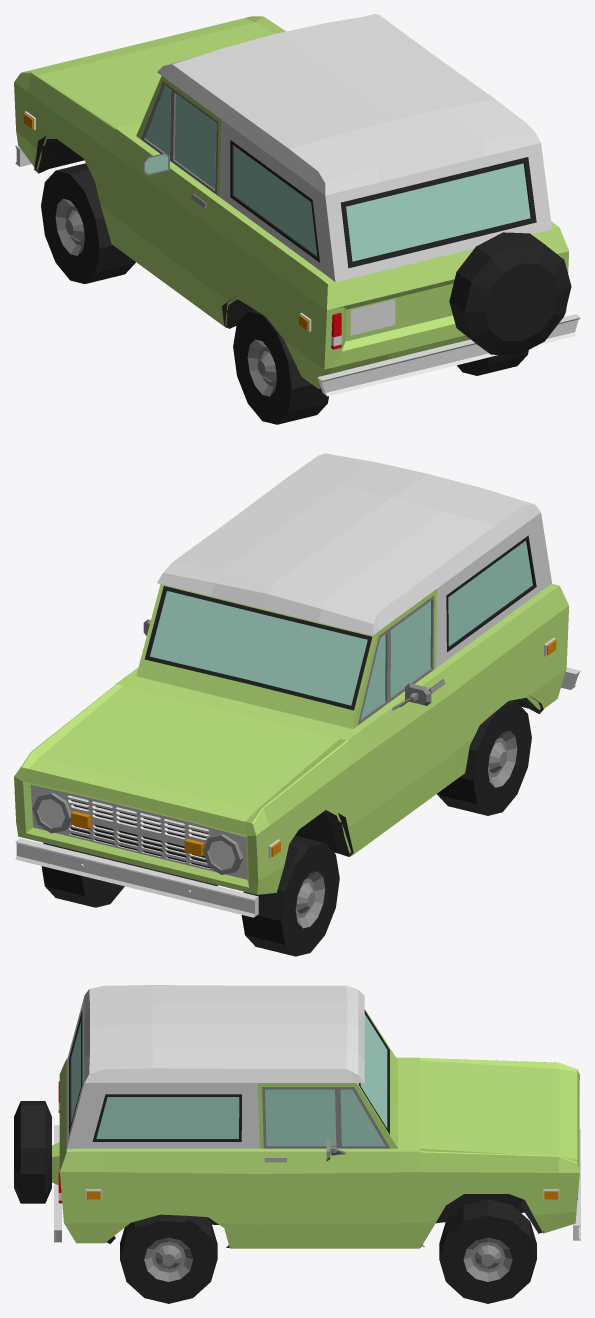
Rendered from bronco.glb.
3 renders of one model, top to bottom at view 1: azimuth 30°, elevation 25°; view 2: azimuth 150°, elevation 25°; view 3: azimuth 270°, elevation 25°, orthographic. The views are drawn at different scales.
Parts seen in each view (by area): view 1: Car_Body, wheels_rear, wheel_FR; view 2: Car_Body, wheel_FR, wheels_rear, wheel_FL; view 3: Car_Body, wheel_FL, wheels_rear.
Boxes of the visible parts, x1=… form: Car_Body: x1=14, y1=14, x2=580, y2=396; wheels_rear: x1=233, y1=309, x2=528, y2=424; wheel_FR: x1=41, y1=163, x2=135, y2=283; Car_Body: x1=14, y1=453, x2=580, y2=917; wheel_FR: x1=241, y1=835, x2=339, y2=956; wheels_rear: x1=437, y1=700, x2=531, y2=815; wheel_FL: x1=41, y1=843, x2=124, y2=907; Car_Body: x1=14, y1=985, x2=580, y2=1248; wheel_FL: x1=439, y1=1199, x2=536, y2=1303; wheels_rear: x1=120, y1=1215, x2=217, y2=1303.
Size of the model in its own units: 1.99 by 1.85 by 4.09.
